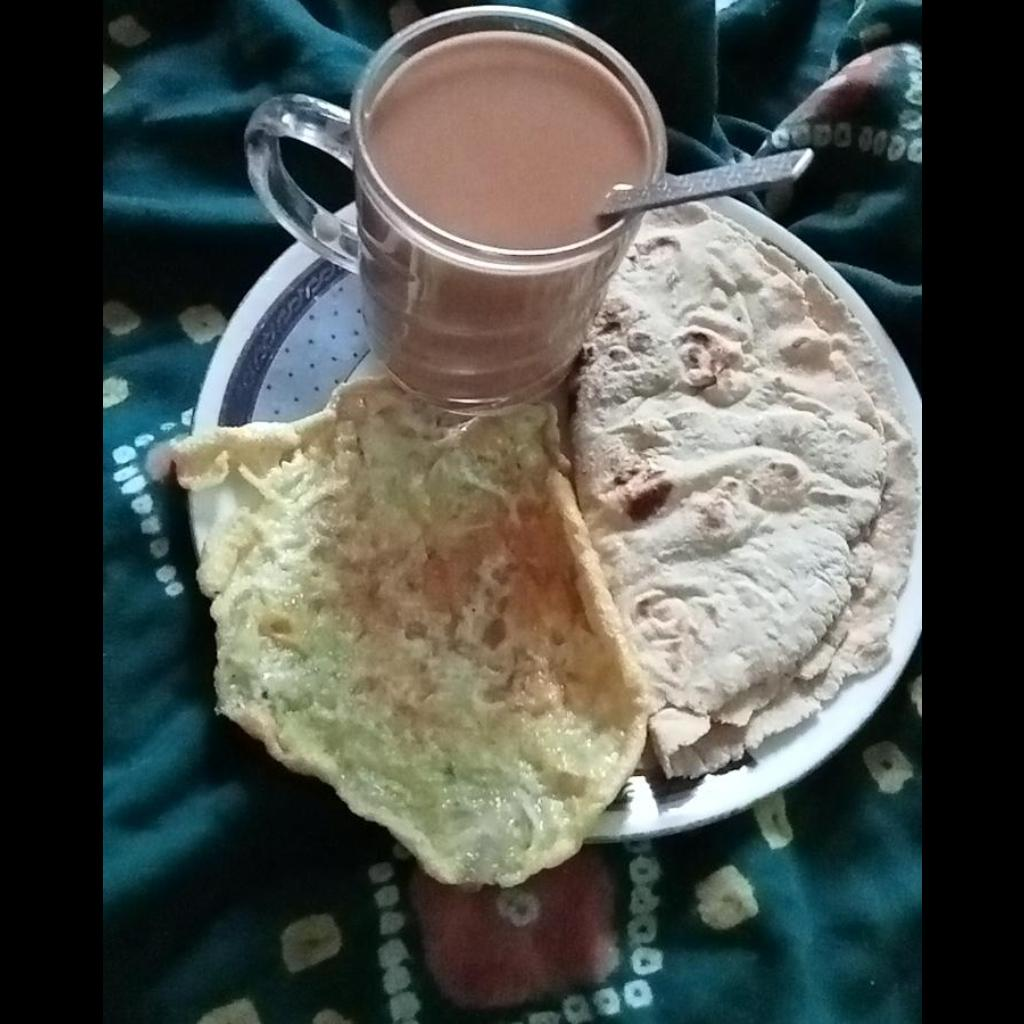cha: (365, 40, 641, 245)
egg-poached: (171, 375, 641, 888)
ruti: (576, 206, 916, 775)
